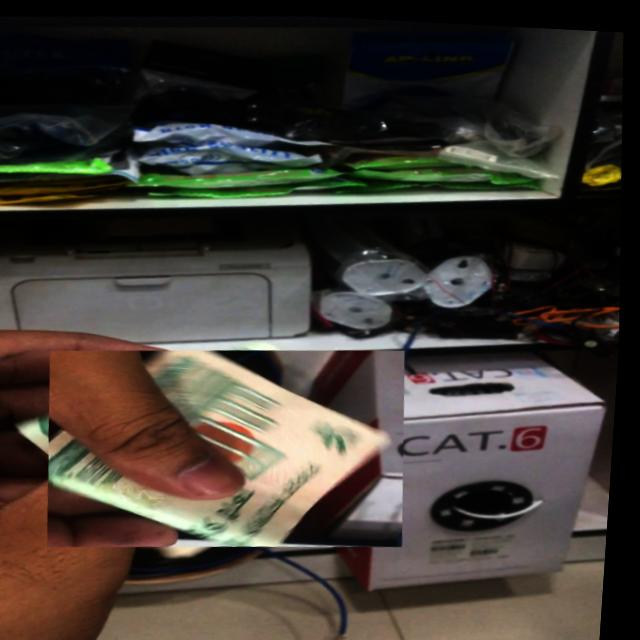Taka: (45, 331, 420, 560)
